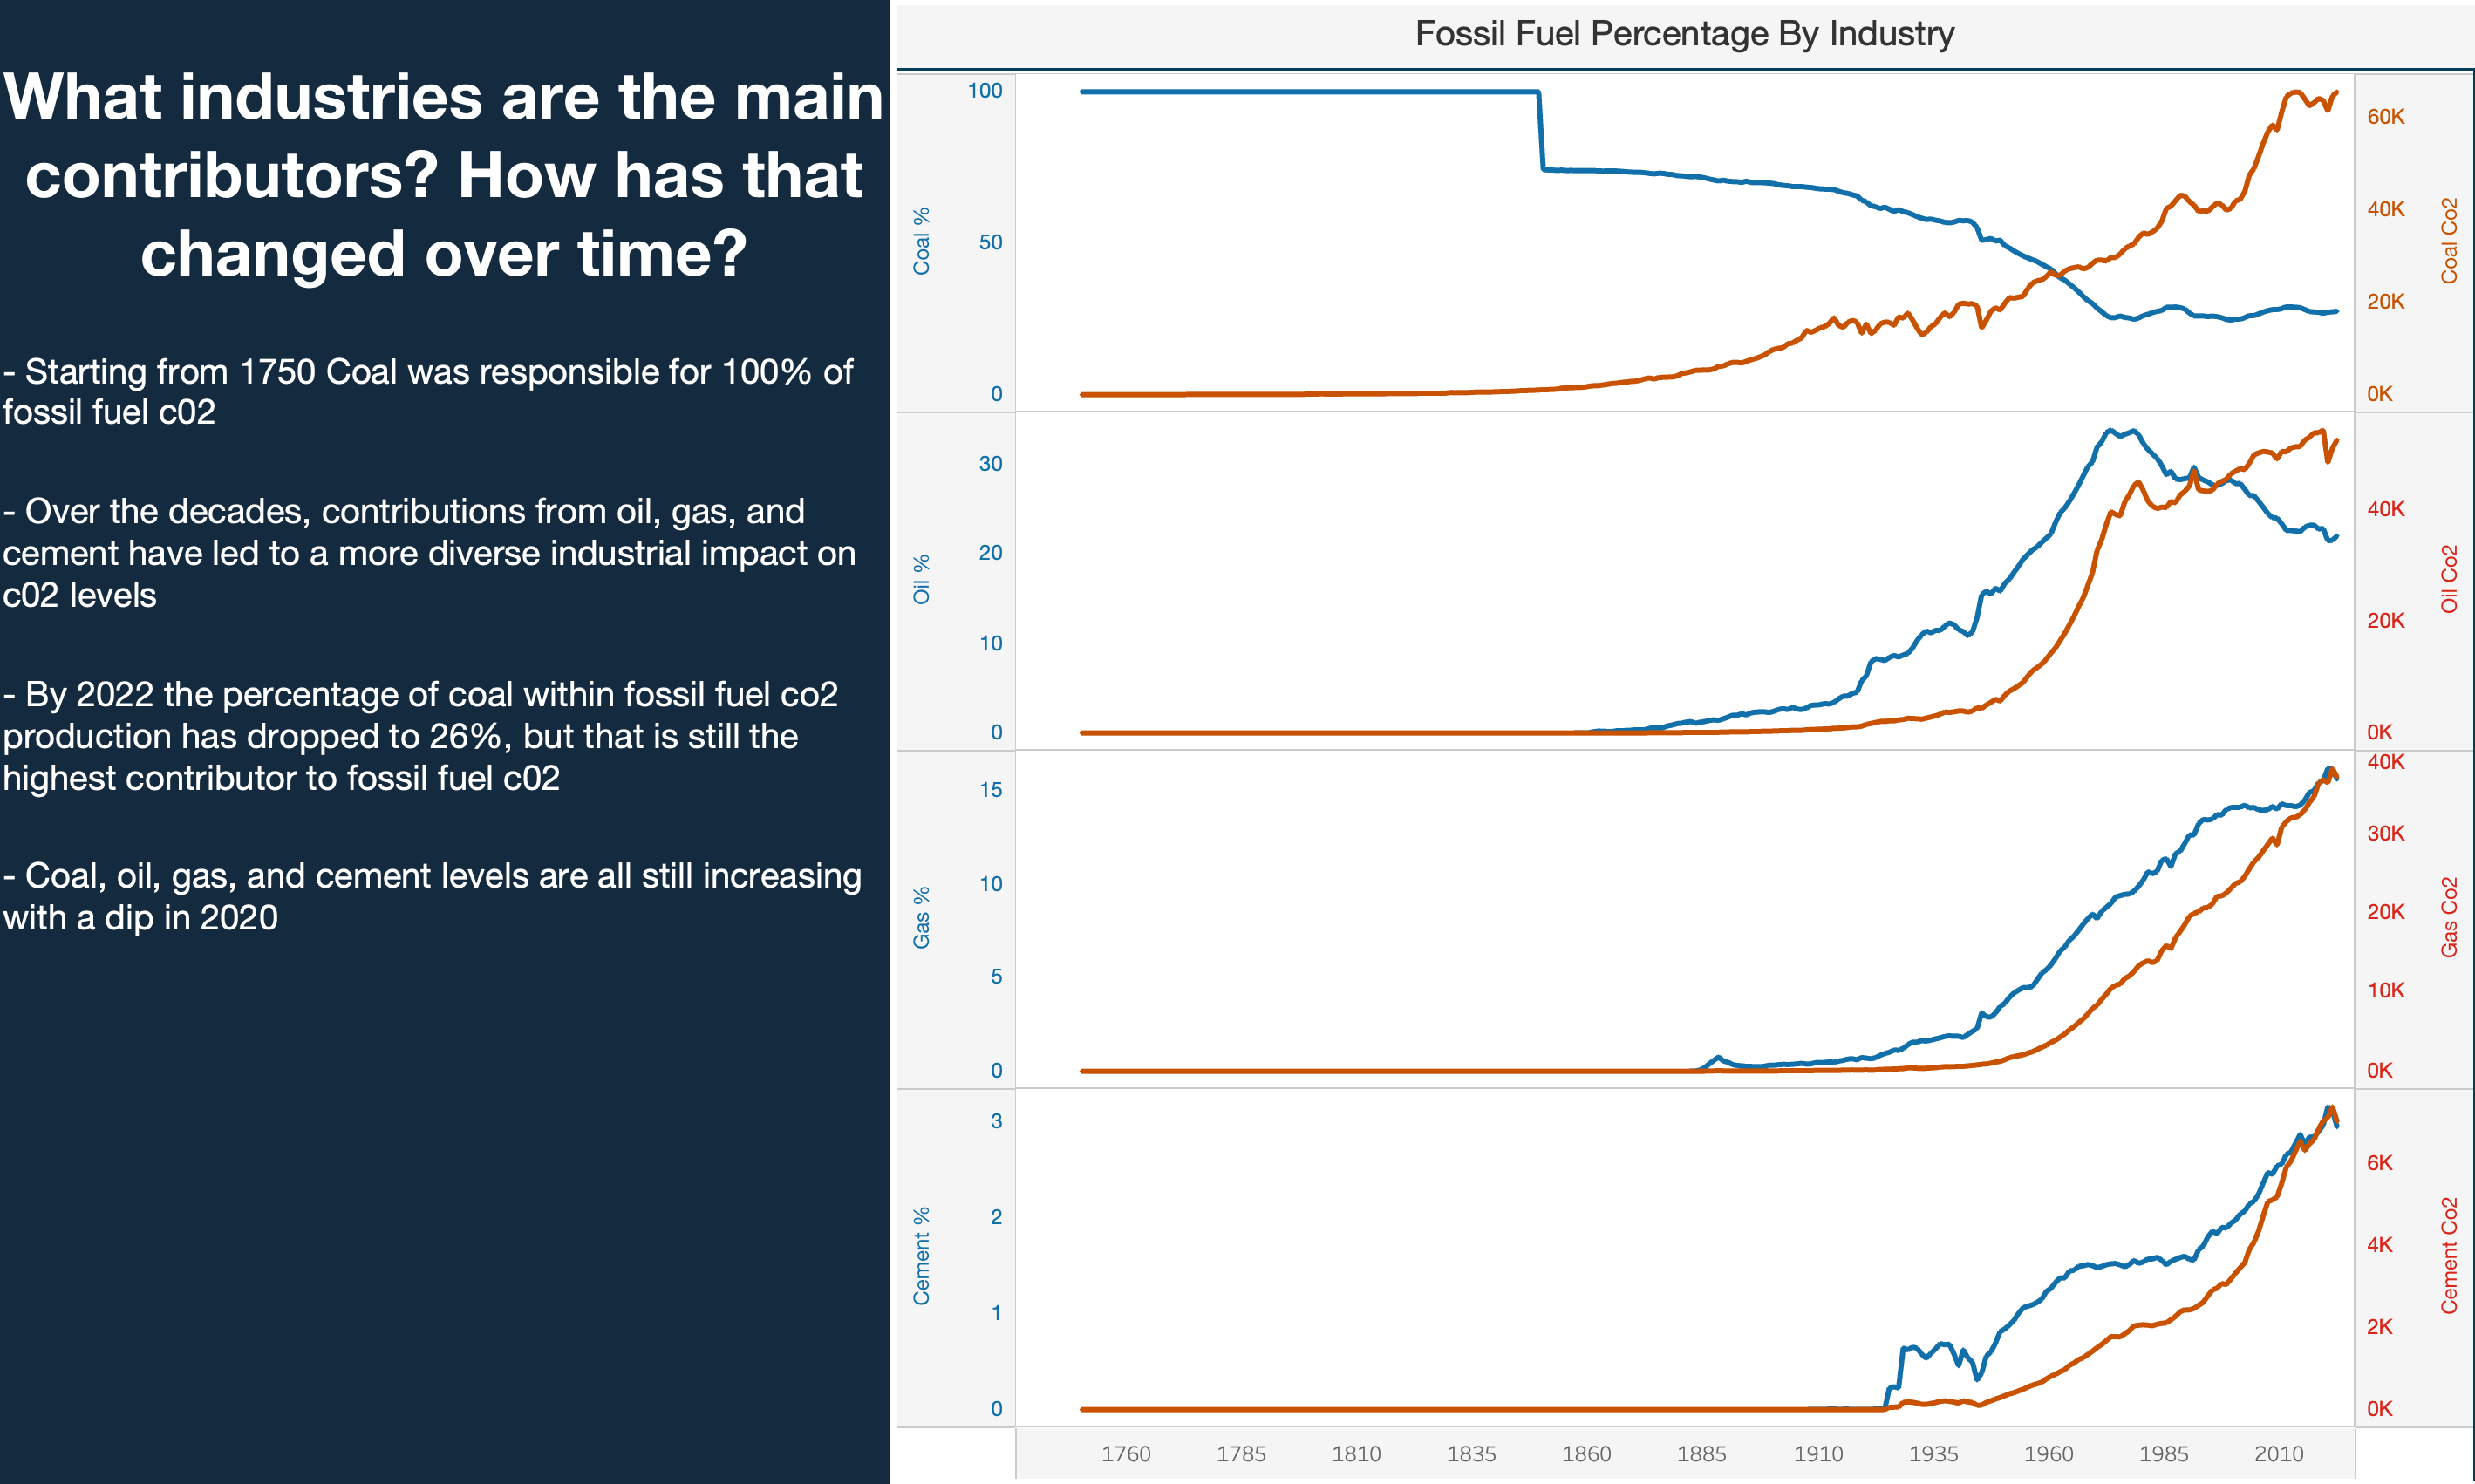

What the dashboard file says about the page in this screenshot:
{"tool":"tableau","page":{"name":"industries","canvas":[1000,1000],"units":"permille","ordinal":10},"visuals":[{"type":"text","box":[6.3,9.9,354.6,980.2]},{"type":"worksheet","title":"Sheet 10","mark":"Automatic","rows":["Calculation_6942721081307353088","coal_co2","Calculation_6942721081366822914","oil_co2","Calculation_6942721081365729281","gas_co2","Calculation_6942721081367400451","cement_co2"],"cols":["year"],"box":[360.9,9.9,632.8,980.2]}]}

Visuals, with their boxes on the dashboard's canvas, which has no fixed pixel size, in thousandths of its width and height (x1, y1, x2, y2). These are canvas units, not pixel positions in the 2475x1484 screenshot, which may show the page scaled, cropped or inside an application window:
text: <region>6, 10, 361, 990</region>
"Sheet 10" worksheet: <region>361, 10, 994, 990</region>
